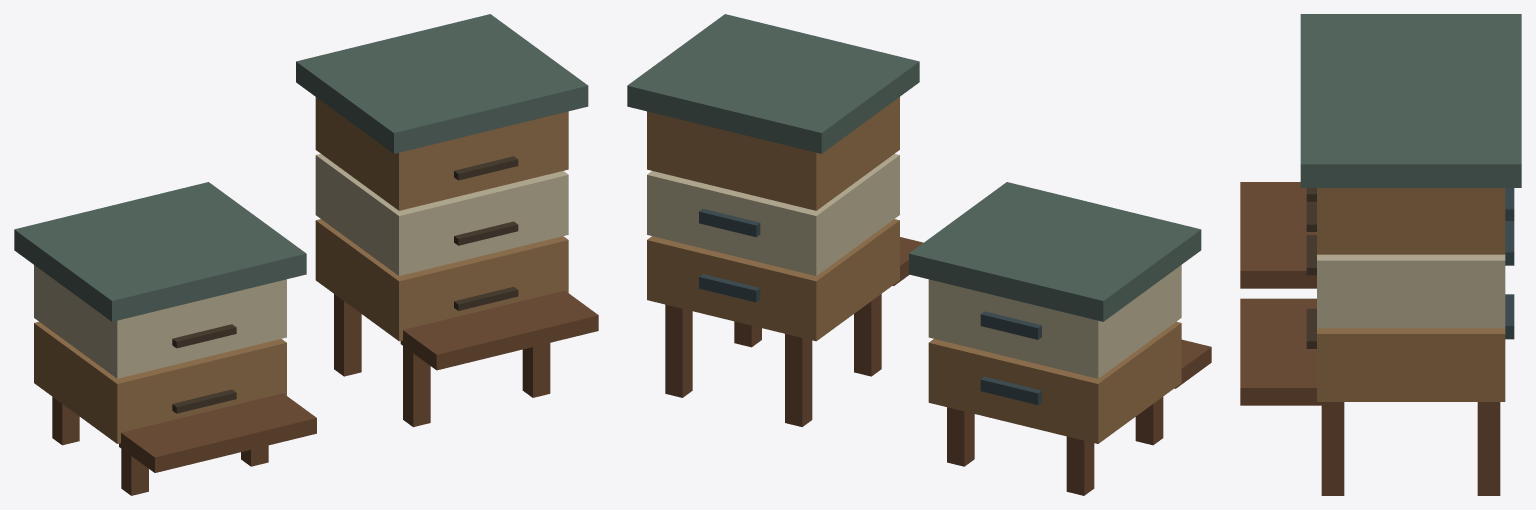
The model's file is Prop_Daily_BeehiveStands_001.glb.
The picture shows the model from 3 angles, left to right: view 1: azimuth 30°, elevation 25°; view 2: azimuth 150°, elevation 25°; view 3: azimuth 270°, elevation 25°; orthographic projection. The views are drawn at different scales.
Visible parts, largest first — view 1: Prop_Daily_BeehiveStands_001; view 2: Prop_Daily_BeehiveStands_001; view 3: Prop_Daily_BeehiveStands_001.
Boxes of the visible parts, x1,y1,x2,y2 form: Prop_Daily_BeehiveStands_001: [14, 14, 598, 495]; Prop_Daily_BeehiveStands_001: [627, 14, 1211, 495]; Prop_Daily_BeehiveStands_001: [1240, 14, 1521, 495].
Size of the model in its own units: 1.91 by 1.18 by 0.865.
